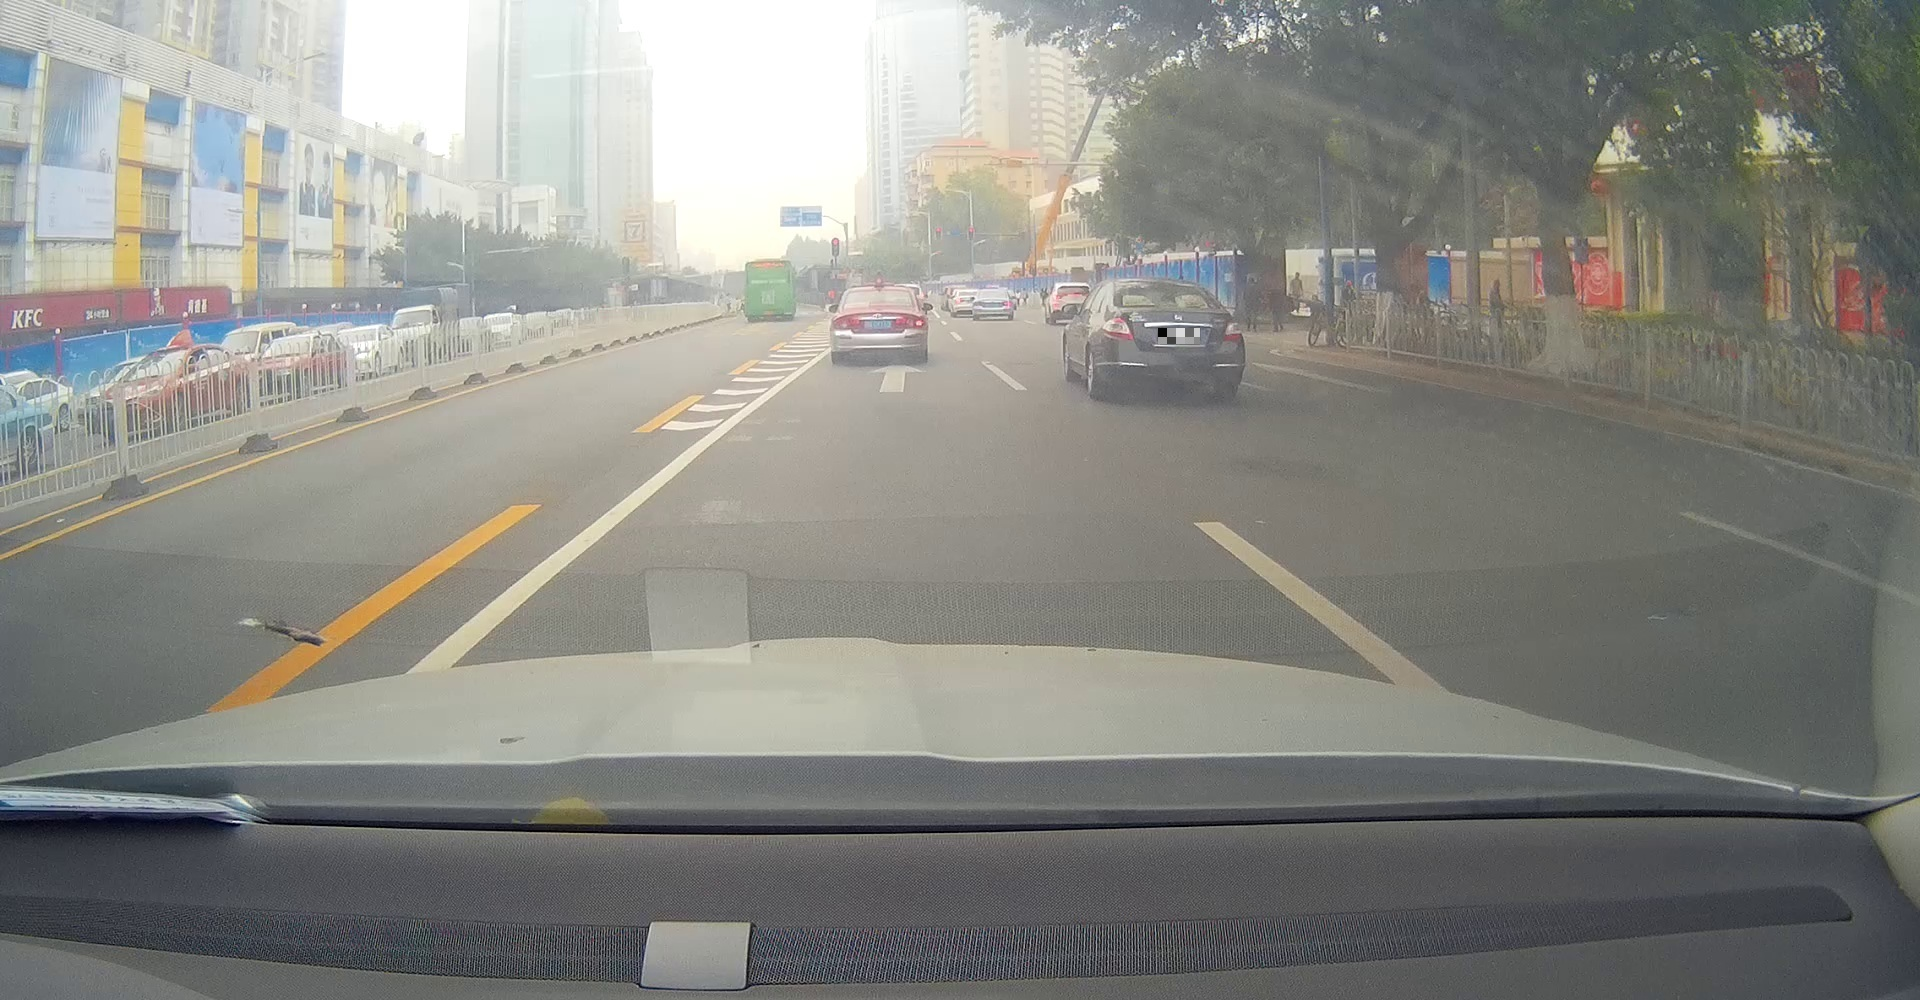L_light: (1102, 319, 1134, 339), (834, 317, 858, 327)
R_light: (1222, 322, 1243, 340), (897, 319, 924, 329)
T_light: (1152, 282, 1171, 288), (870, 291, 888, 294)
day-no: (1100, 279, 1246, 400), (830, 286, 927, 364)
plate_1: (1158, 327, 1200, 344)
